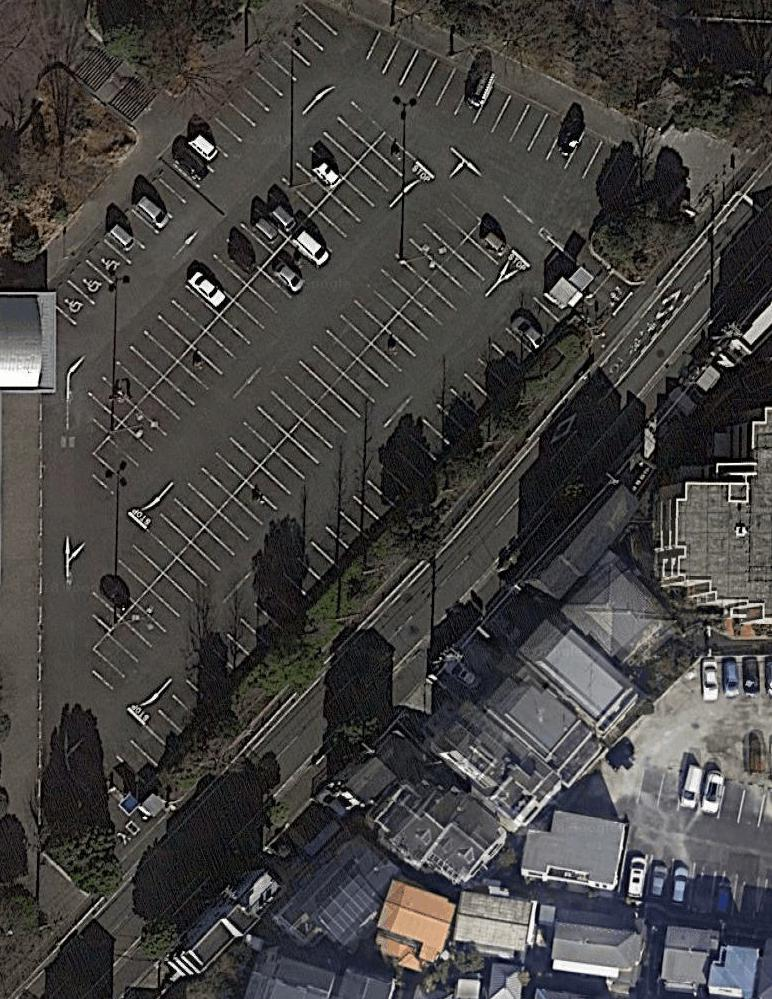parkingspot: (112, 293, 564, 790), (91, 218, 514, 694), (91, 189, 484, 635), (92, 129, 420, 498), (85, 97, 389, 439), (53, 4, 343, 329), (362, 26, 644, 201), (616, 848, 772, 926), (633, 758, 772, 834), (697, 656, 772, 699)
